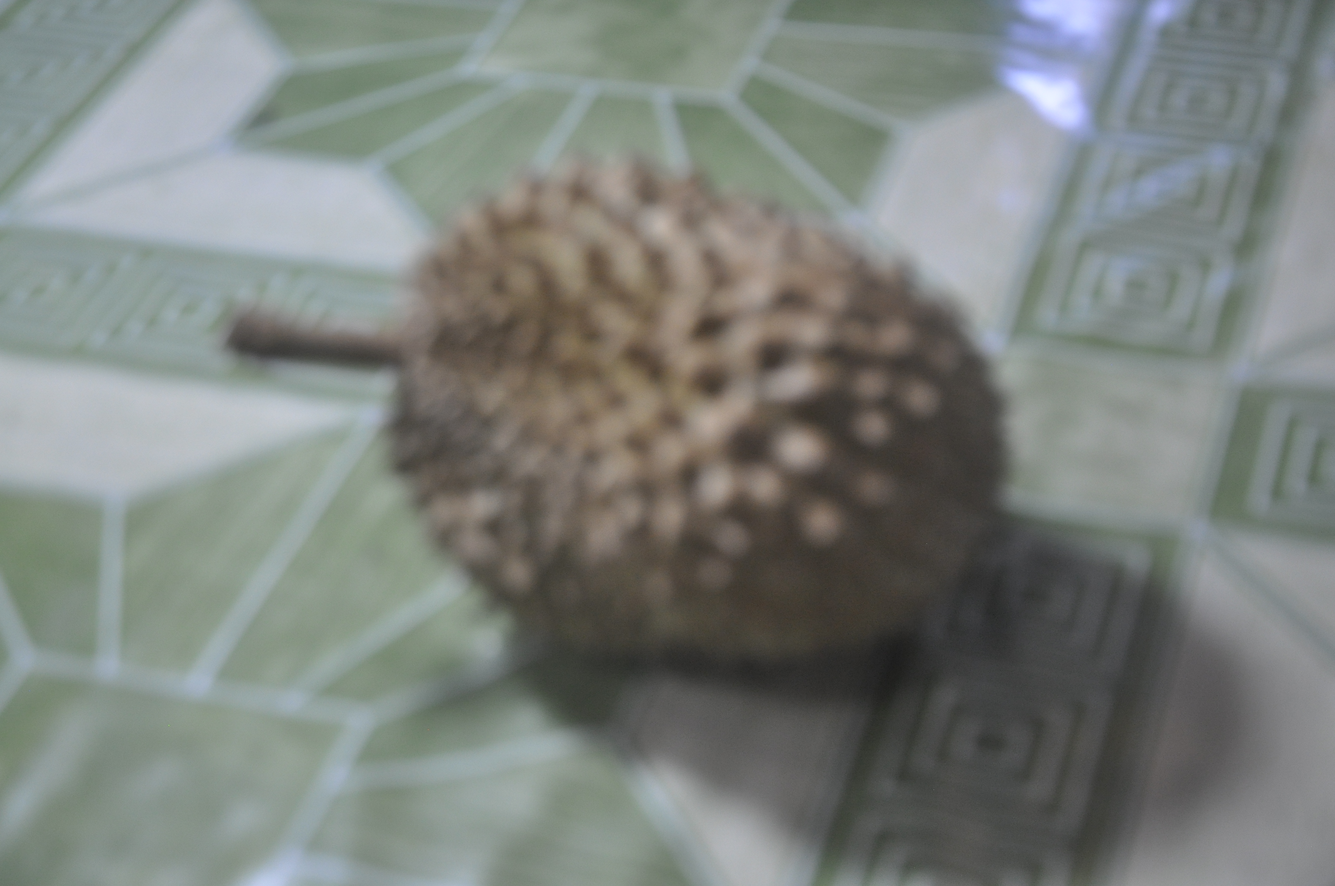mature: (231, 163, 1004, 659)
